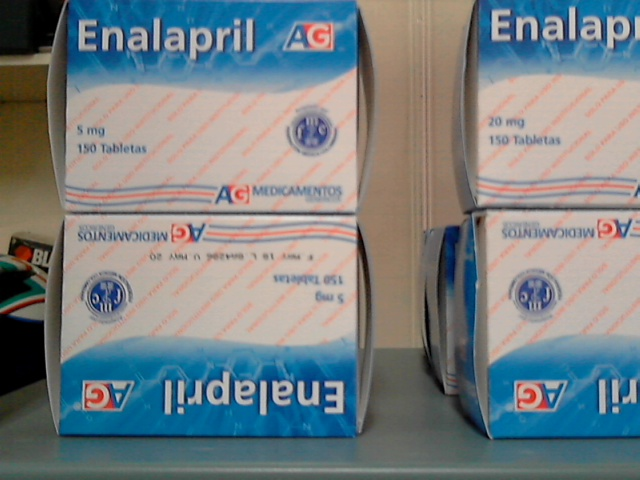AG: (66, 216, 354, 435), (68, 2, 357, 212)
